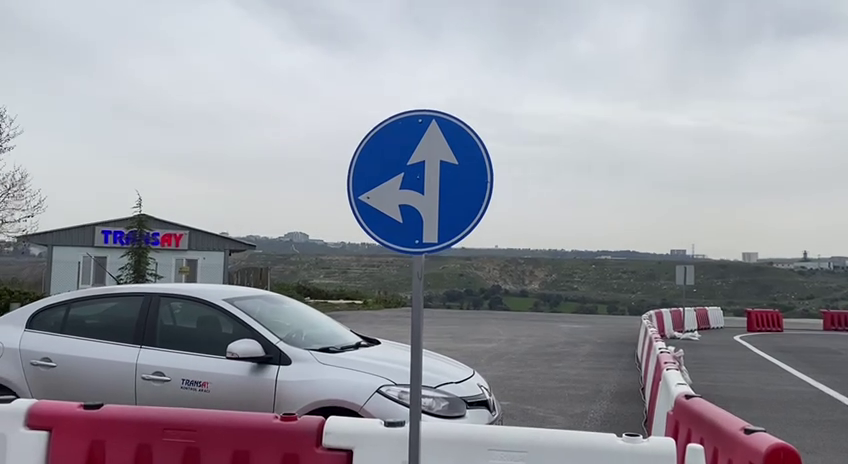forwardAndLeft: (339, 106, 501, 259)
